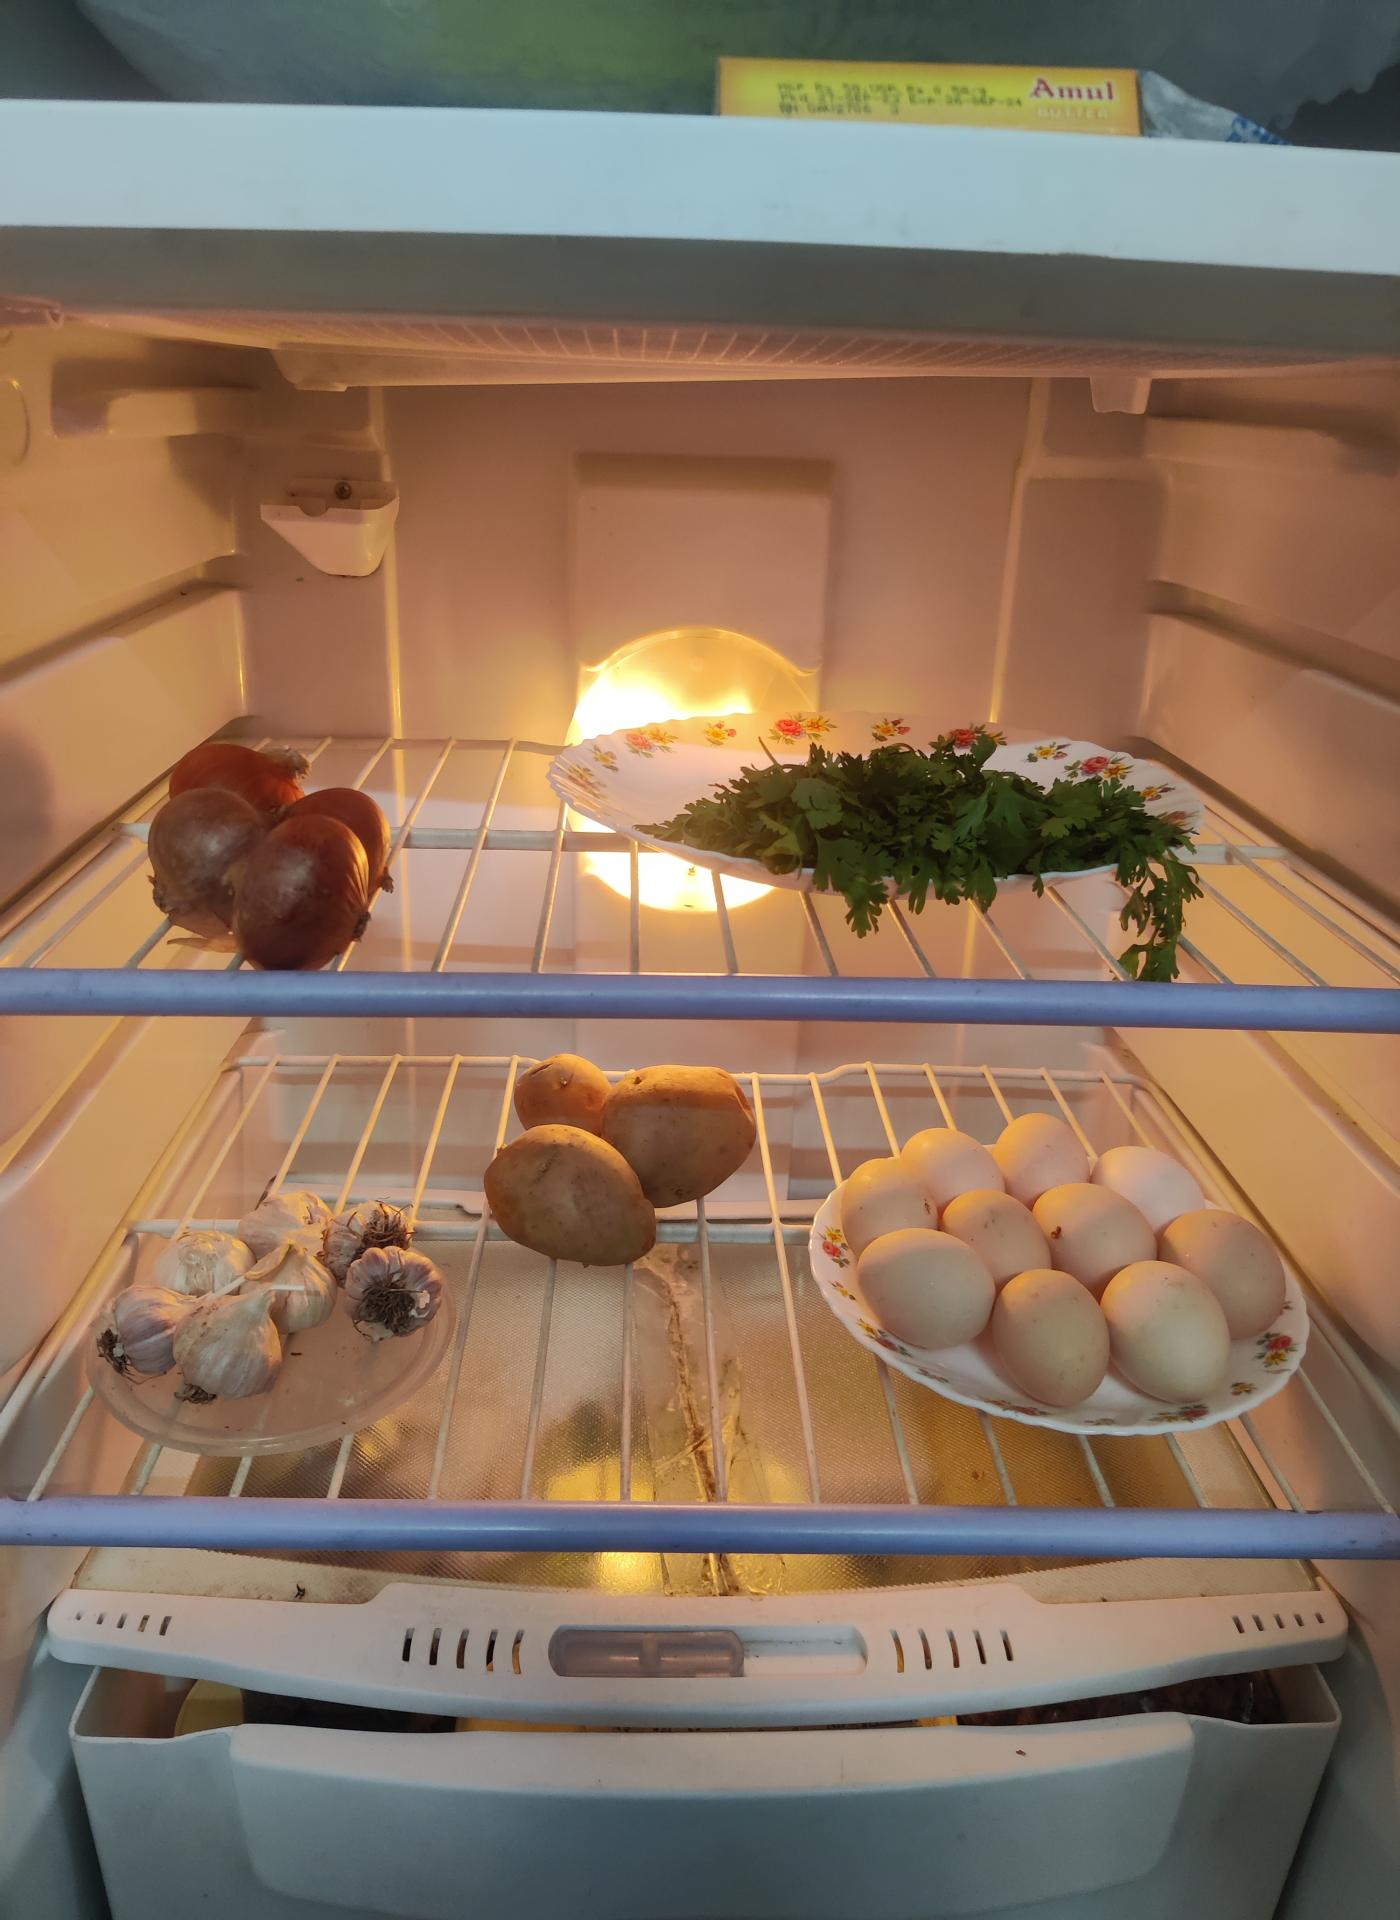coriander: (701, 741, 1215, 920)
egg: (817, 1121, 1285, 1416)
garlic: (89, 1173, 447, 1416)
onion: (137, 745, 400, 969)
potato: (483, 1049, 760, 1258)
